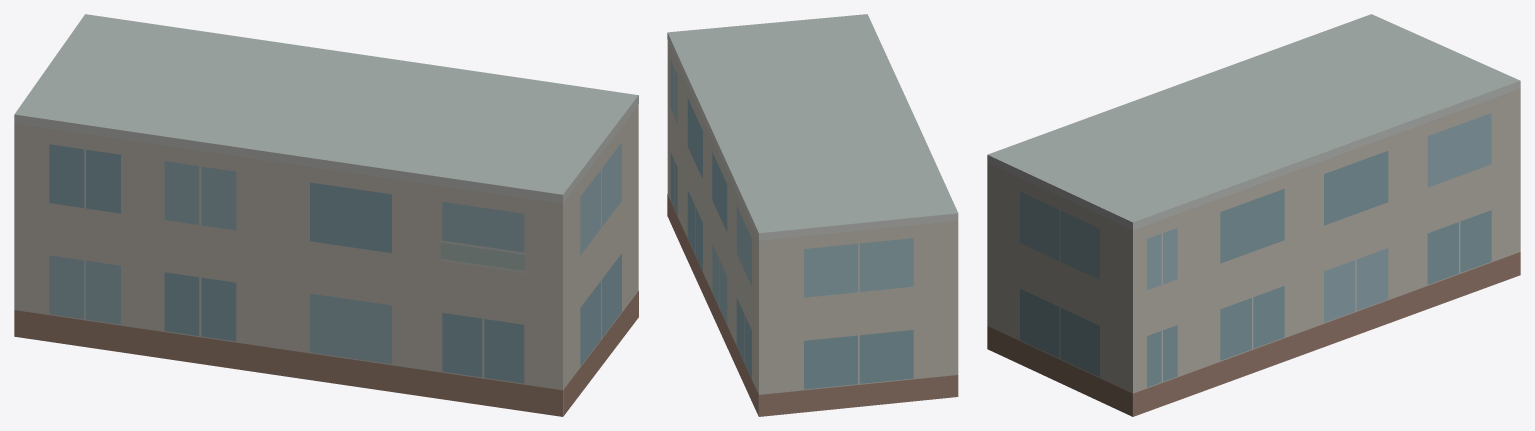
File: survey-upis-32625348.glb
3 views of the same model, side by side, from view 1: azimuth 30°, elevation 25°; view 2: azimuth 150°, elevation 25°; view 3: azimuth 270°, elevation 25° (orthographic). The views are drawn at different scales.
Parts seen in each view (by area): view 1: survey-upis-32625348.tmp; view 2: survey-upis-32625348.tmp; view 3: survey-upis-32625348.tmp.
Boxes of the visible parts, x1=… form: survey-upis-32625348.tmp: x1=14, y1=14, x2=638, y2=416; survey-upis-32625348.tmp: x1=667, y1=14, x2=958, y2=416; survey-upis-32625348.tmp: x1=987, y1=14, x2=1520, y2=416.
Size of the model in its own units: 14.04 by 6.1 by 15.18.
